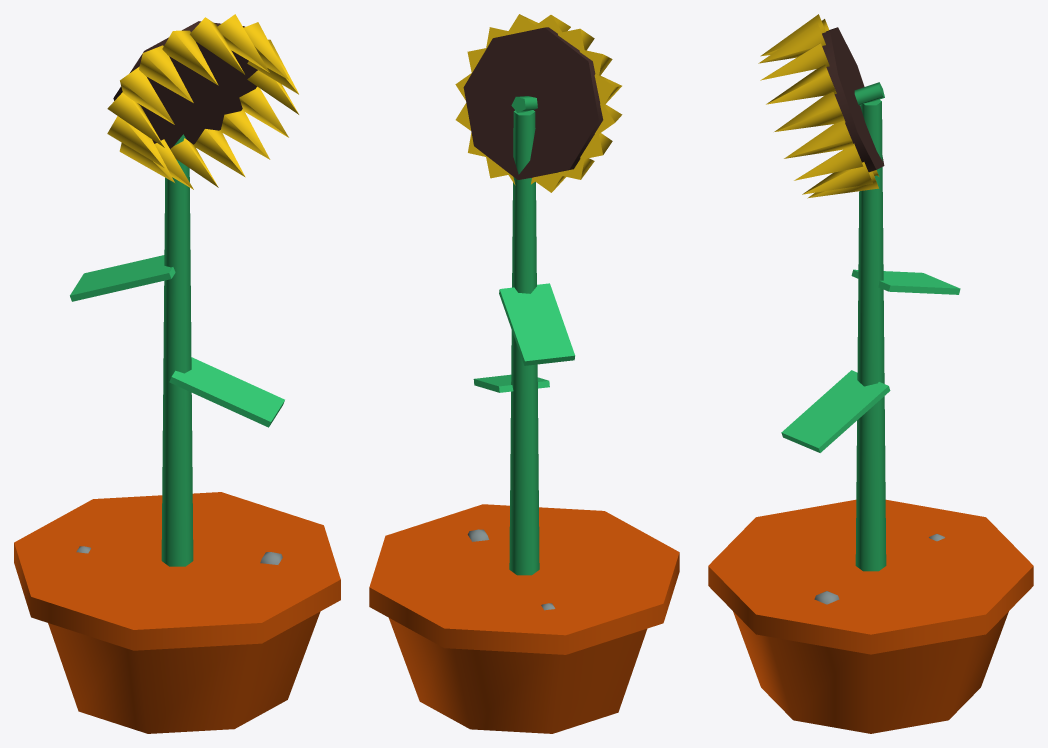
File: sunflower.glb
3 views of the same model, side by side, from view 1: azimuth 30°, elevation 25°; view 2: azimuth 150°, elevation 25°; view 3: azimuth 270°, elevation 25° (orthographic). The views are drawn at different scales.
Visible parts, largest first — view 1: rim, pot, sunflower_stem, center_disk, leaf_1, leaf_2, petal_6, petal_5, petal_7, petal_3, petal_4, petal_14 (+9 smaller); view 2: rim, pot, center_disk, sunflower_stem, leaf_2, leaf_1; view 3: rim, pot, sunflower_stem, leaf_1, center_disk, leaf_2, petal_1, petal_2, petal_0, petal_4, petal_14, petal_3 (+1 smaller).
Boxes of the visible parts, left/top/right/bottom form: rim: left=14, top=492, right=340, bottom=650; pot: left=48, top=611, right=320, bottom=733; sunflower_stem: left=161, top=134, right=193, bottom=566; center_disk: left=113, top=21, right=257, bottom=148; leaf_1: left=169, top=357, right=284, bottom=427; leaf_2: left=70, top=255, right=175, bottom=301; petal_6: left=139, top=45, right=193, bottom=102; petal_5: left=162, top=30, right=218, bottom=85; petal_7: left=120, top=66, right=174, bottom=124; petal_3: left=217, top=14, right=269, bottom=72; petal_4: left=190, top=17, right=244, bottom=74; petal_14: left=220, top=110, right=270, bottom=159; rim: left=369, top=504, right=679, bottom=654; pot: left=389, top=618, right=647, bottom=733; center_disk: left=463, top=27, right=603, bottom=179; sunflower_stem: left=509, top=110, right=539, bottom=575; leaf_2: left=499, top=283, right=575, bottom=365; leaf_1: left=473, top=374, right=549, bottom=392; rim: left=708, top=499, right=1033, bottom=654; pot: left=733, top=611, right=1008, bottom=733; sunflower_stem: left=855, top=99, right=886, bottom=571; leaf_1: left=781, top=370, right=890, bottom=452; center_disk: left=822, top=27, right=884, bottom=172; leaf_2: left=851, top=269, right=960, bottom=294; petal_1: left=774, top=92, right=845, bottom=131; petal_2: left=766, top=64, right=836, bottom=104; petal_0: left=784, top=120, right=854, bottom=158; petal_4: left=758, top=23, right=825, bottom=63; petal_14: left=802, top=162, right=872, bottom=194; petal_3: left=760, top=43, right=829, bottom=80.
Bounding box in the file's own units: 0.74 × 1.67 × 0.74.
